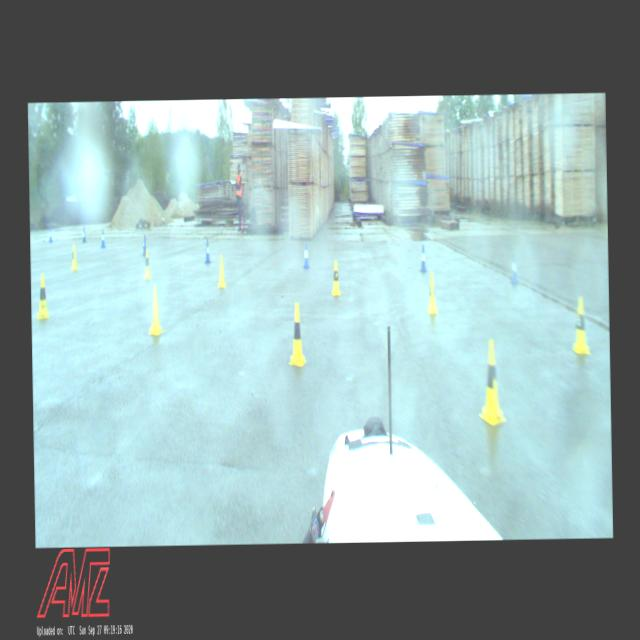blue_cone: (509, 255, 518, 287), (419, 246, 426, 272), (303, 242, 309, 268), (204, 238, 210, 263), (100, 230, 105, 248), (142, 234, 146, 254), (48, 227, 52, 241), (80, 228, 84, 242)
yellow_cone: (478, 339, 507, 426), (288, 303, 306, 366), (571, 296, 589, 354), (148, 285, 164, 335), (36, 272, 49, 318), (426, 272, 438, 314), (330, 260, 340, 294), (217, 255, 226, 287), (143, 247, 151, 279), (70, 243, 78, 270)
